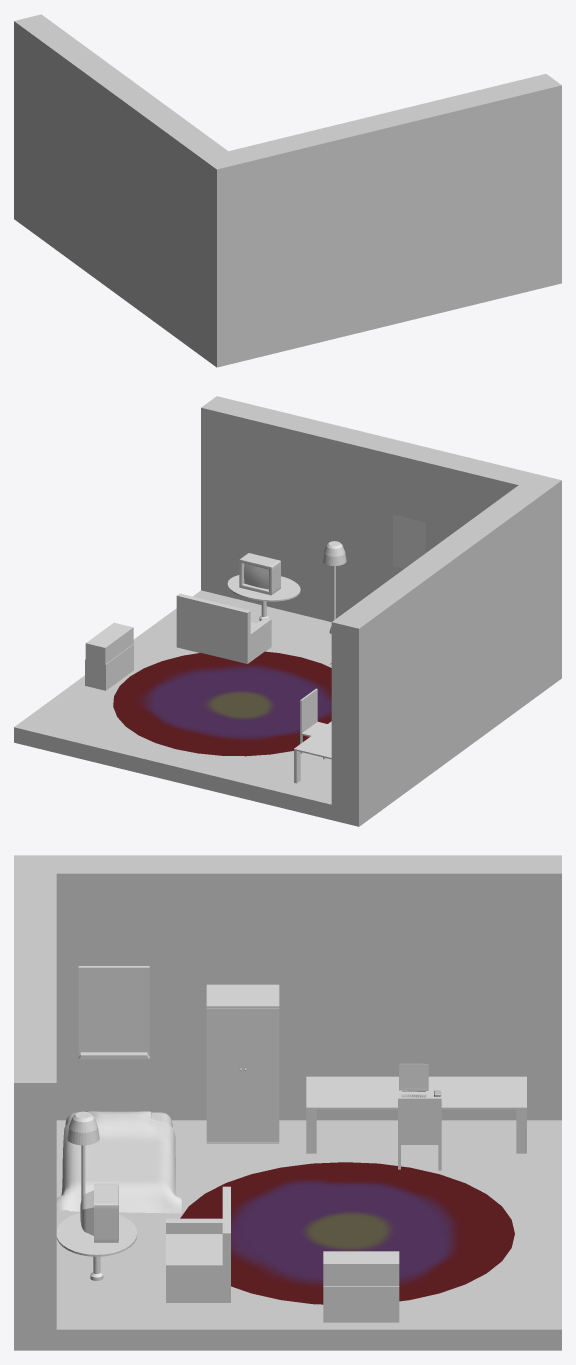
Rendered from room_4.fbx.
3 views of the same model, one above another, from view 1: azimuth 30°, elevation 25°; view 2: azimuth 150°, elevation 25°; view 3: azimuth 270°, elevation 25° (orthographic). The views are drawn at different scales.
Parts seen in each view (by area): view 1: room; view 2: room, rug, parquet, armchair, poster, aquarium, aquarium_handle, tv, table, tvstand_bottom.001, chair; view 3: room, parquet, rug, wardrobe, blanket, table, armchair, Cube.001, aquarium_handle, aquarium, chair, tv (+3 smaller).
Part boxes in pixels (x1,y1,x2,y2): room: (14,14,561,367); room: (14,396,561,826); rug: (113,651,331,756); parquet: (14,590,331,804); armchair: (176,593,271,663); poster: (393,514,425,568); aquarium: (85,622,133,664); aquarium_handle: (85,644,133,690); tv: (239,553,280,595); table: (294,721,331,783); tvstand_bottom.001: (227,575,300,601); chair: (300,688,327,736); room: (14,855,561,1350); parquet: (56,1120,561,1329); rug: (180,1162,514,1304); wardrobe: (206,984,279,1143); blanket: (56,1113,181,1213); table: (306,1076,526,1153); armchair: (166,1186,230,1302); Cube.001: (80,970,147,1052); aquarium_handle: (323,1286,399,1322); aquarium: (323,1251,399,1286); chair: (398,1097,441,1144); tv: (80,1183,118,1242).
Size of the model in its own units: 1095 by 601 by 1115.
